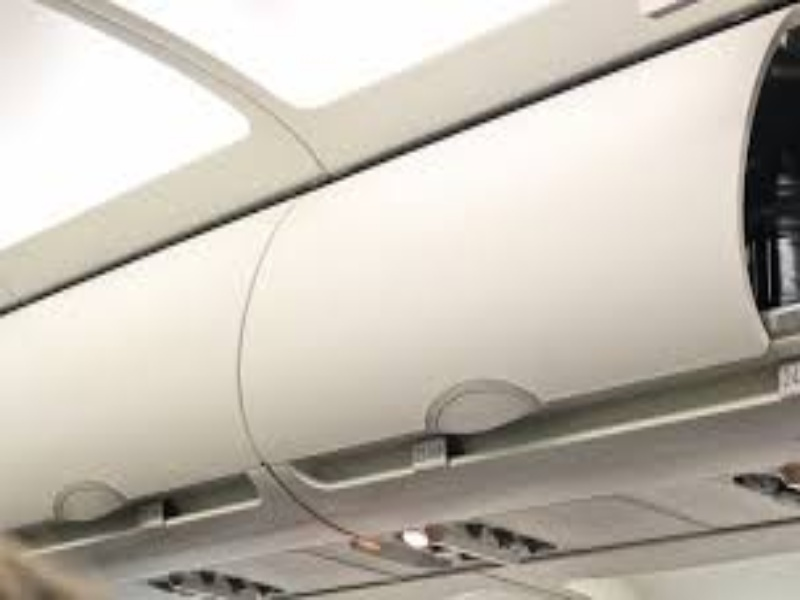close_bin: (250, 21, 790, 497), (1, 168, 300, 570)
